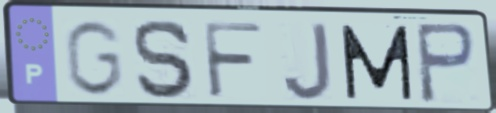F: (200, 19, 266, 102)
G: (61, 18, 125, 99)
J: (280, 20, 335, 103)
M: (337, 22, 417, 102)
P: (412, 20, 479, 107)
S: (131, 17, 200, 102)
